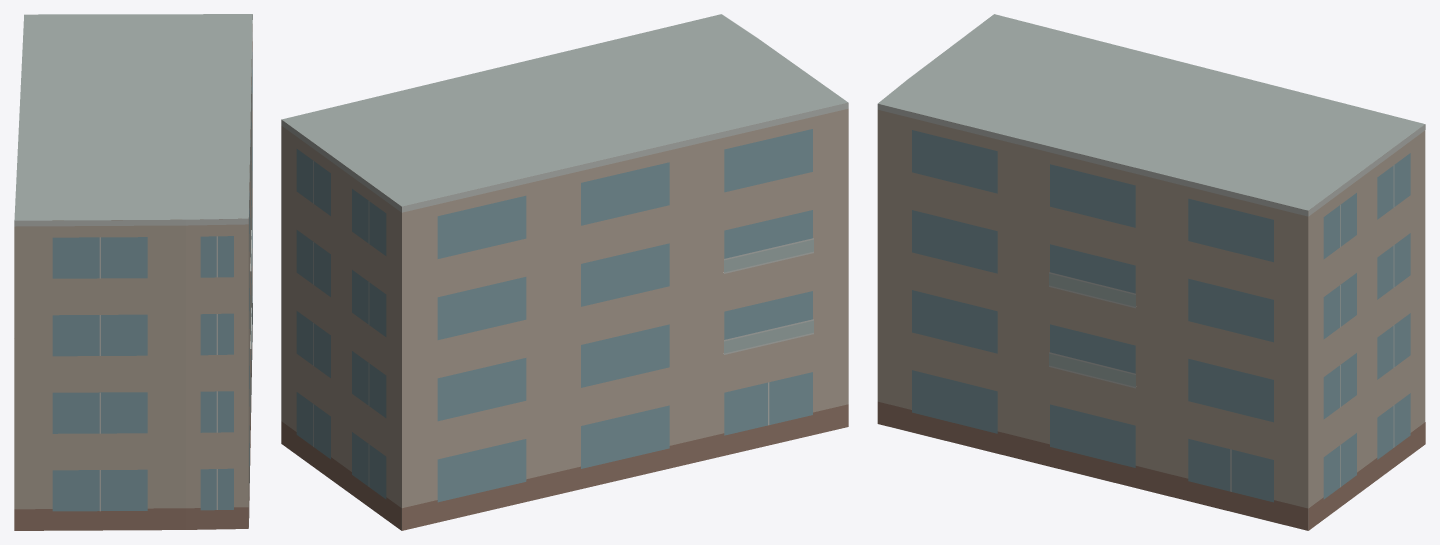
File: survey-upis-32970425.glb
The picture shows the model from 3 angles, left to right: view 1: azimuth 30°, elevation 25°; view 2: azimuth 150°, elevation 25°; view 3: azimuth 270°, elevation 25°; orthographic projection. The views are drawn at different scales.
Parts seen in each view (by area): view 1: survey-upis-32970425.tmp; view 2: survey-upis-32970425.tmp; view 3: survey-upis-32970425.tmp.
Part boxes in pixels (bbox=[...]): survey-upis-32970425.tmp: bbox=[14, 14, 252, 530]; survey-upis-32970425.tmp: bbox=[281, 14, 848, 530]; survey-upis-32970425.tmp: bbox=[877, 14, 1425, 530].
Bounding box in the file's own units: 17.13 × 13 × 20.16.
